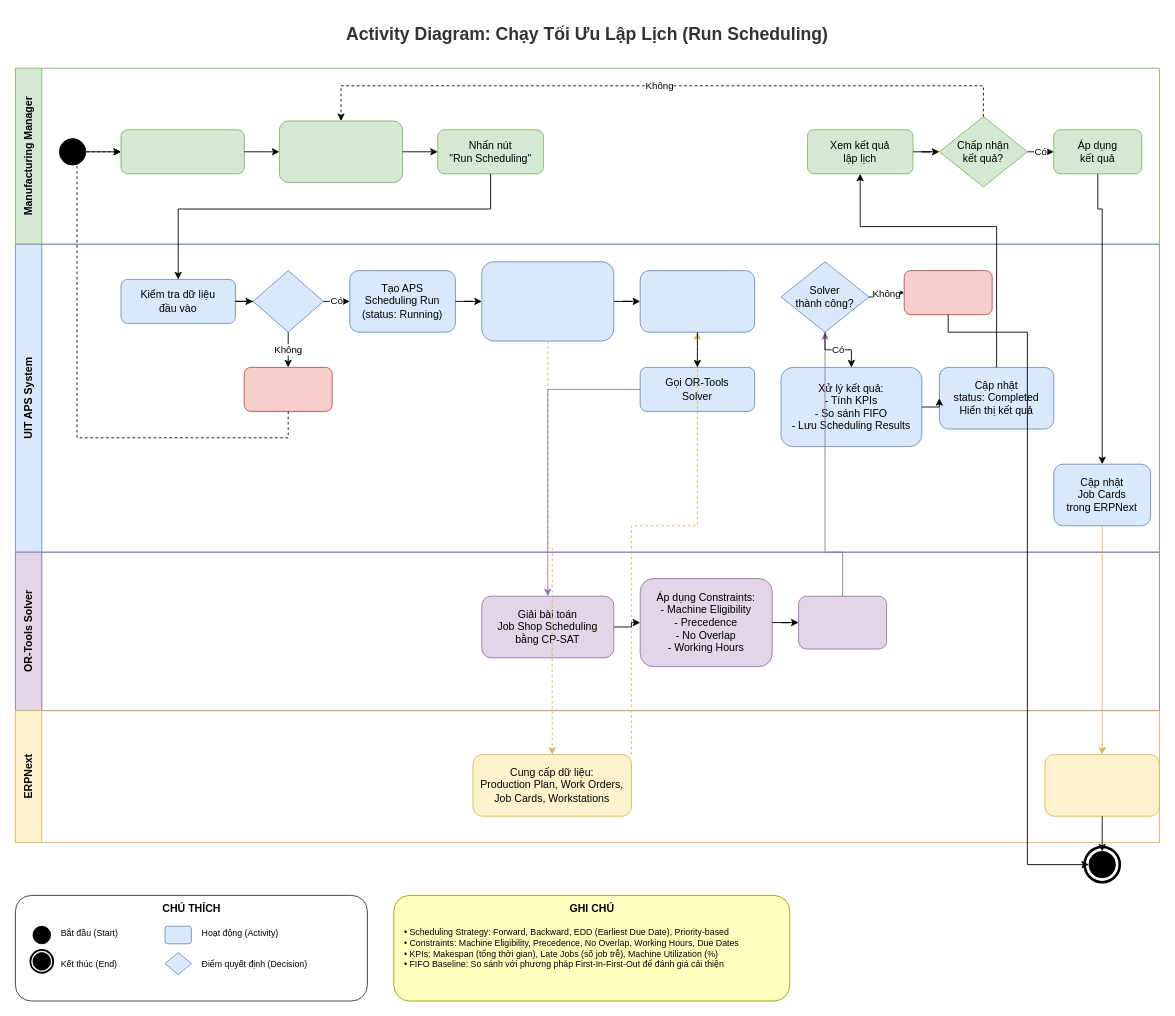
Some shapes in this 1175 by 1016 pixel diagram are drawn without their labels. The centre of each missing label's shape, as x and y in pixels:
Chọn Production Plan cần lập lịch: (x=182, y=151)
Cấu hình tham số: - Strategy - Time Limit - Weights: (x=341, y=151)
Hiển thị thông báo lỗi: (x=287, y=389)
Hợp lệ?: (x=287, y=301)
Lưu cập nhật Expected Start/End Date cho Job Cards: (x=1101, y=785)
Trả về Solution: (x=842, y=622)
Tải dữ liệu từ ERPNext: - Job Cards - Workstations - Working Hours: (x=547, y=301)
Xây dựng Scheduling Model với constraints: (x=697, y=301)
Đánh dấu status: Failed: (x=947, y=292)
